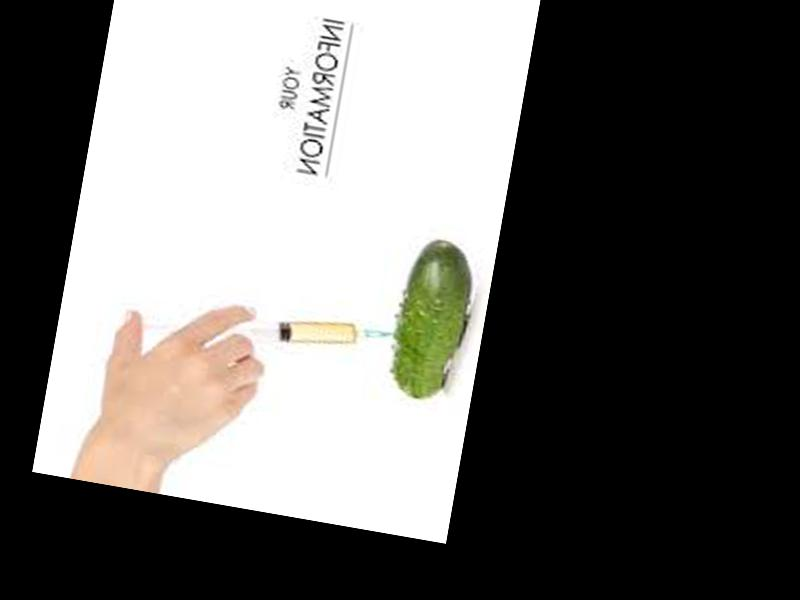Cucumber: (383, 235, 475, 405)
